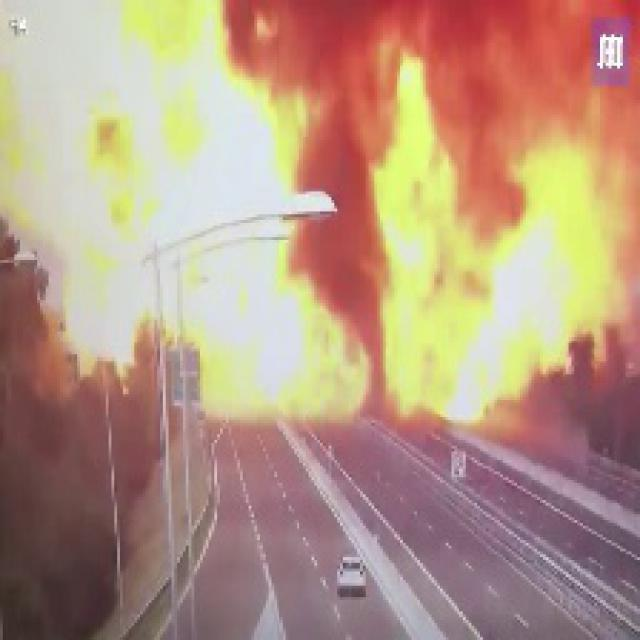fire: (3, 3, 611, 446)
